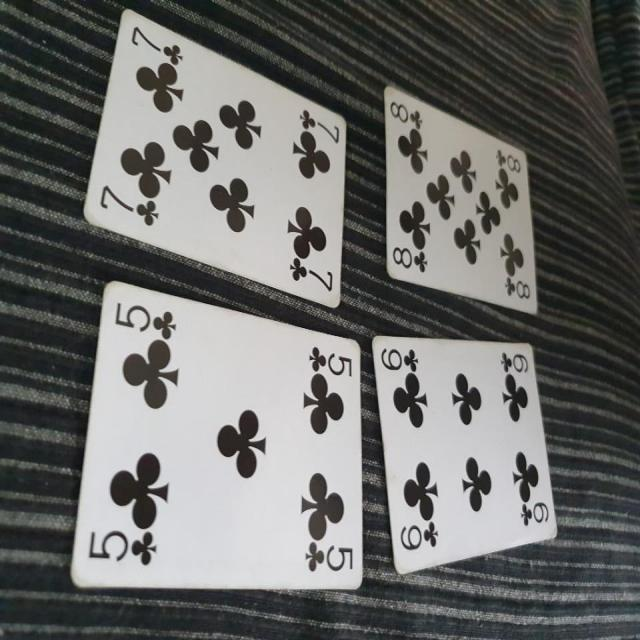5 Trefoils: (68, 274, 364, 588)
6 Trefoils: (372, 333, 562, 576)
7 Trefoils: (82, 8, 348, 309)
8 Trefoils: (381, 87, 540, 317)
